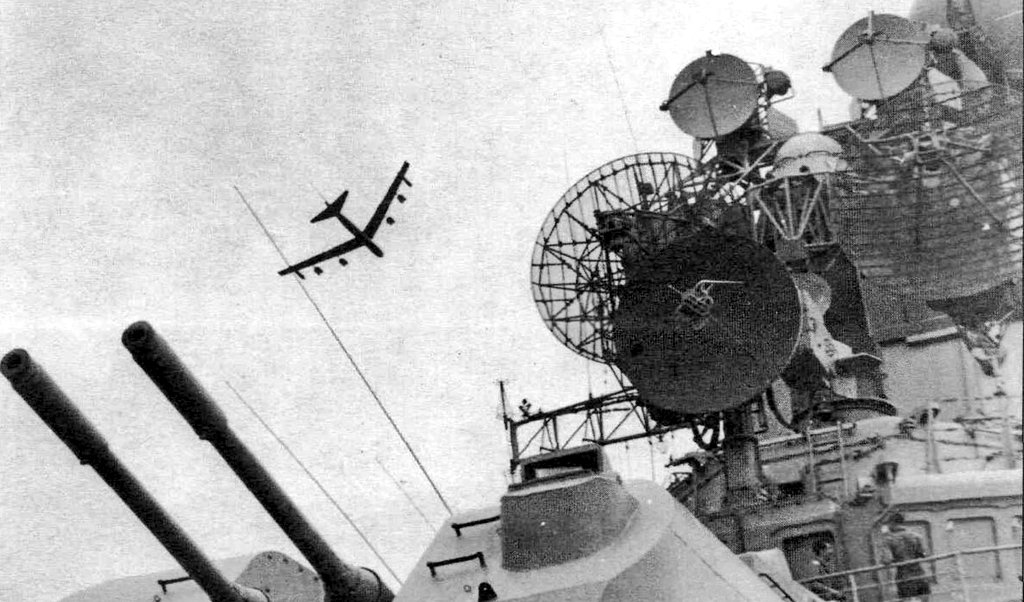B52: (277, 160, 413, 280)
